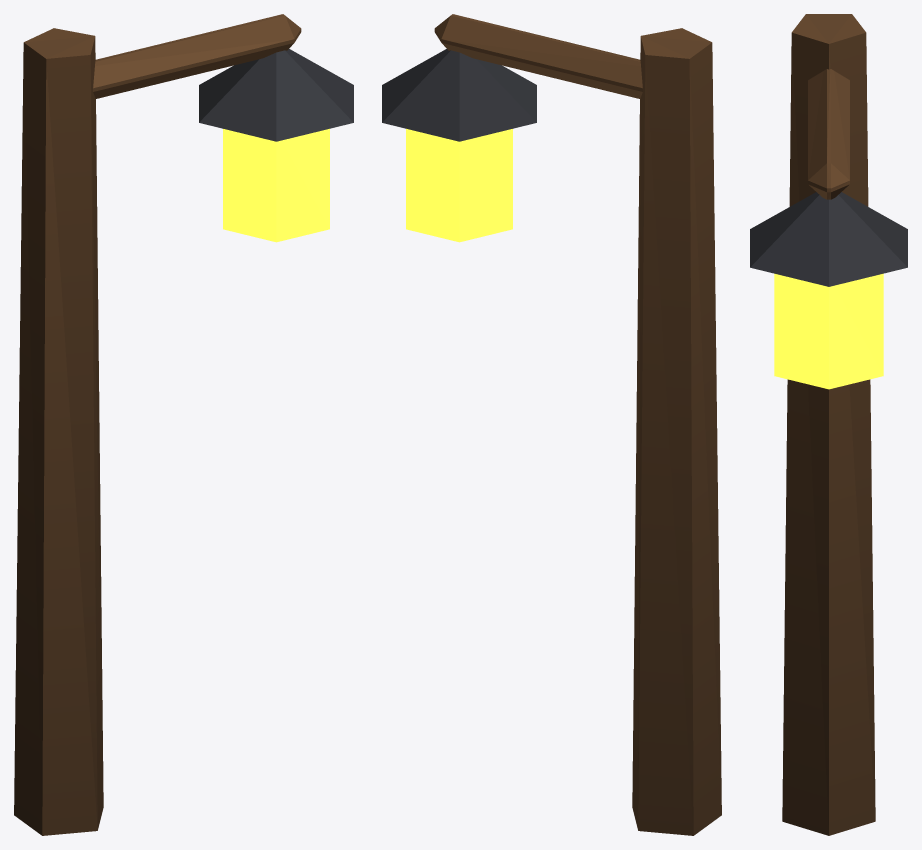
Rendered from lantern_post.glb.
3 views of the same model, side by side, from view 1: azimuth 30°, elevation 25°; view 2: azimuth 150°, elevation 25°; view 3: azimuth 270°, elevation 25° (orthographic).
Parts seen in each view (by area): view 1: lantern_post; view 2: lantern_post; view 3: lantern_post.
Part boxes in pixels (<box>): lantern_post: <box>14,14,353,835</box>; lantern_post: <box>382,14,721,835</box>; lantern_post: <box>750,14,907,835</box>.
Size of the model in its own units: 0.2733 by 0.62 by 0.1126.
